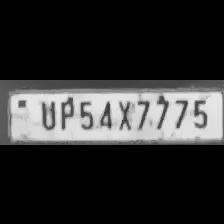4: (95, 97, 115, 130)
5: (188, 96, 212, 130), (74, 97, 94, 130)
7: (150, 96, 170, 130), (168, 96, 188, 130), (132, 96, 150, 132)
P: (56, 96, 76, 132)
U: (34, 97, 57, 130)
X: (114, 97, 134, 131)
